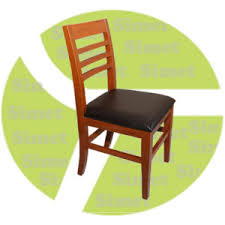tiyarina: (60, 15, 177, 203)
